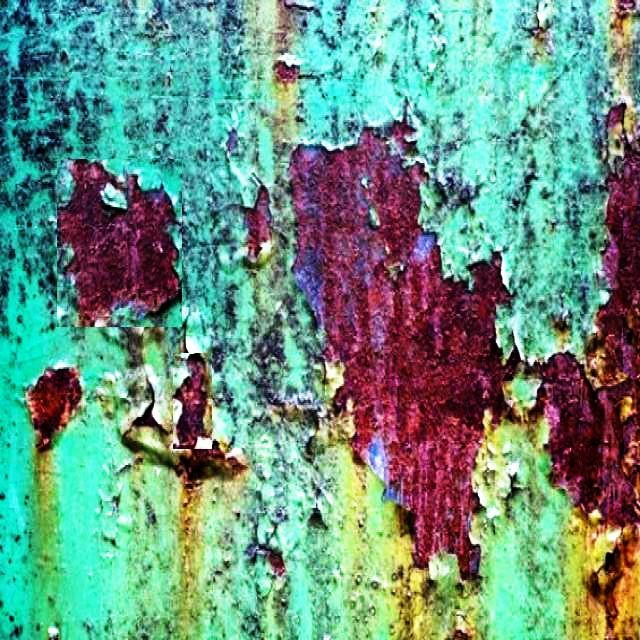Corrosion: (291, 128, 512, 574), (291, 129, 508, 574), (543, 140, 640, 526), (58, 160, 179, 326), (26, 369, 82, 450), (174, 354, 208, 450), (605, 530, 640, 614), (244, 184, 272, 268), (608, 101, 628, 172), (132, 400, 164, 430)
